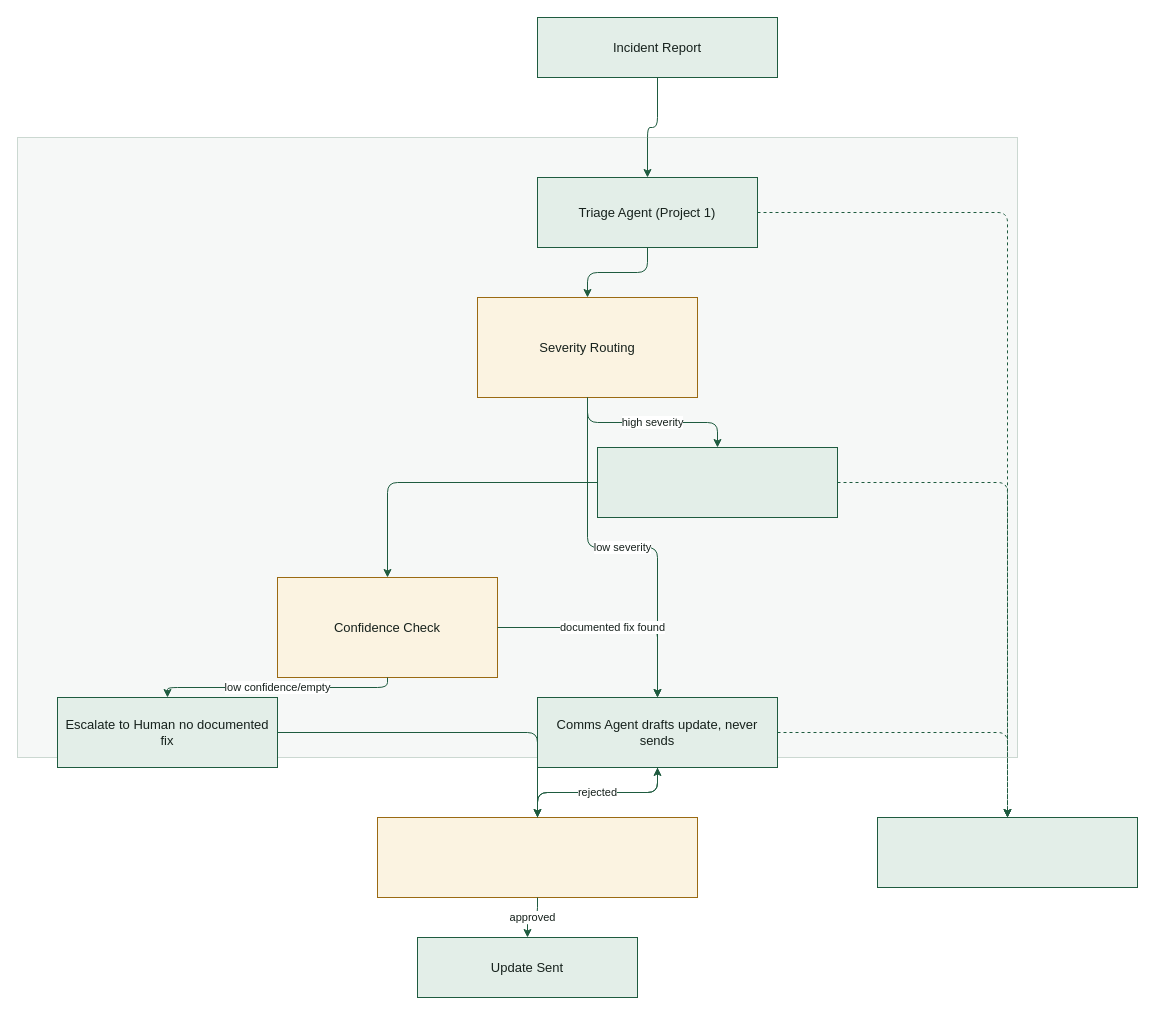
The diagram is 1155 pixels wide and 1015 high, and some of its shapes have lost their labels. The shapes that lost their labels are listed below. From the top down, each one's box as (x1, y1, x2, y2) in pixels, then its label:
(16, 136, 1018, 758): LAYER 5 — STATE GRAPH
(596, 446, 838, 518): Runbook Agent (Project 4 retrieval)
(376, 816, 698, 898): Human Review Gate mandatory, cannot be bypassed
(876, 816, 1138, 888): Every handoff logged to Layer 3 tracing
